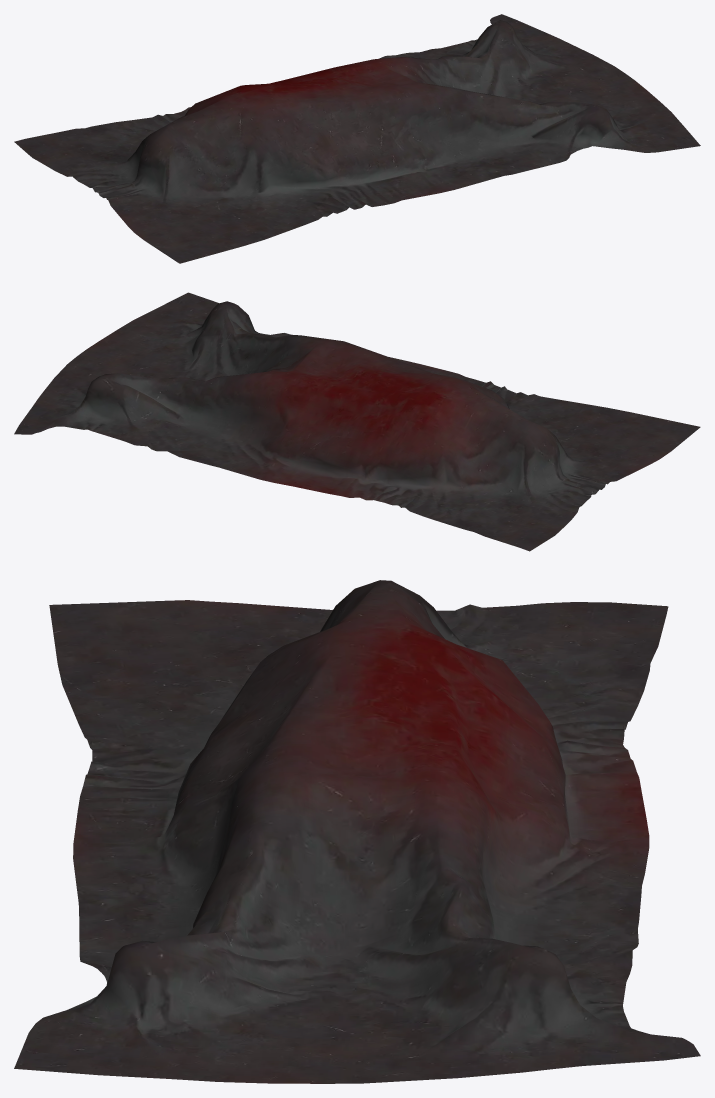
File: corpse_b.glb
The picture shows the model from 3 angles, top to bottom: view 1: azimuth 30°, elevation 25°; view 2: azimuth 150°, elevation 25°; view 3: azimuth 270°, elevation 25°; orthographic projection. The views are drawn at different scales.
Visible parts, largest first — view 1: DeadBodyCovered; view 2: DeadBodyCovered; view 3: DeadBodyCovered.
Part boxes in pixels (x1,y1,x2,y2): DeadBodyCovered: (14,14,700,263); DeadBodyCovered: (14,292,700,551); DeadBodyCovered: (14,580,700,1083).
Size of the model in its own units: 2.43 by 0.2823 by 1.46.
Materials: 1 (1 with a texture image).
